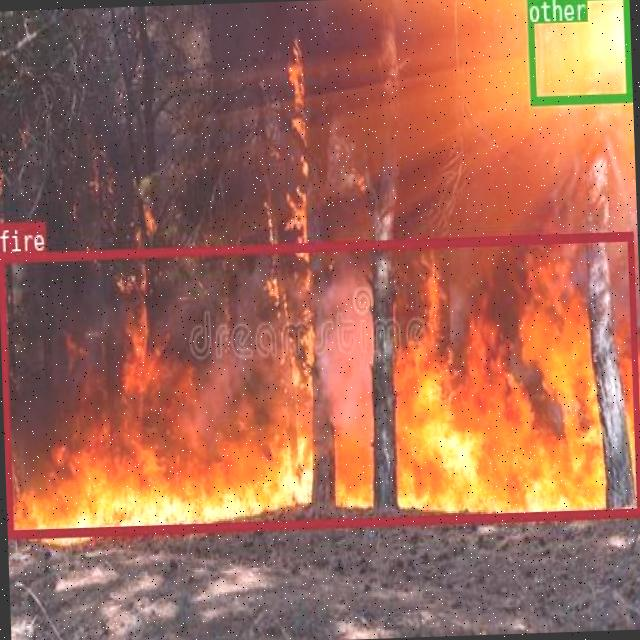fire: (0, 231, 640, 536)
